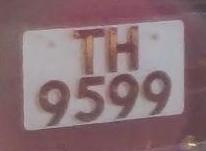5: (70, 73, 110, 125)
9: (35, 73, 74, 134), (106, 71, 142, 125), (139, 66, 175, 119)
H: (104, 21, 146, 77)
T: (70, 26, 107, 77)
